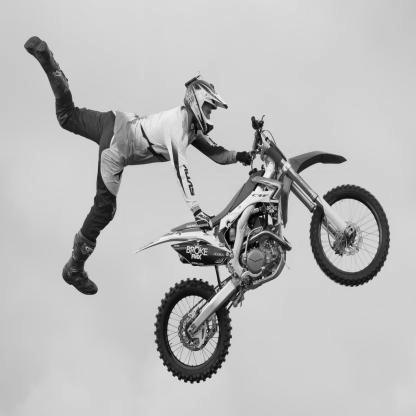moto: (154, 136, 393, 382)
